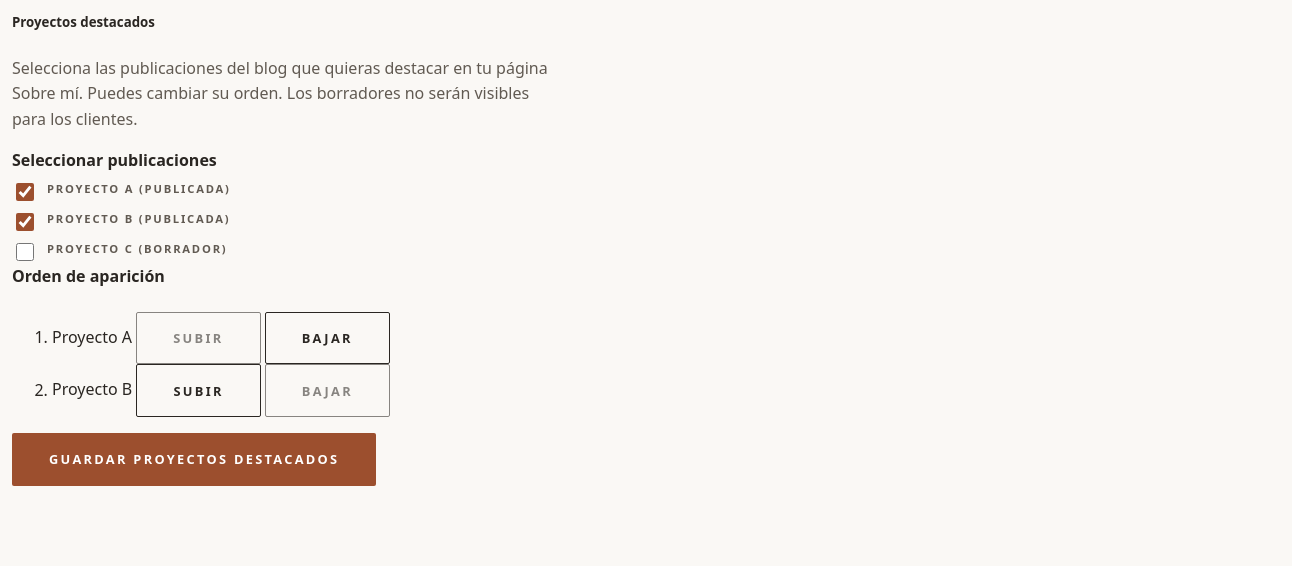
Test case: SelectorProyectosSobreMi › muestra un error cuando falla el guardado
Click the button "Guardar proyectos destacados": point(194, 460) [12, 433, 376, 486]
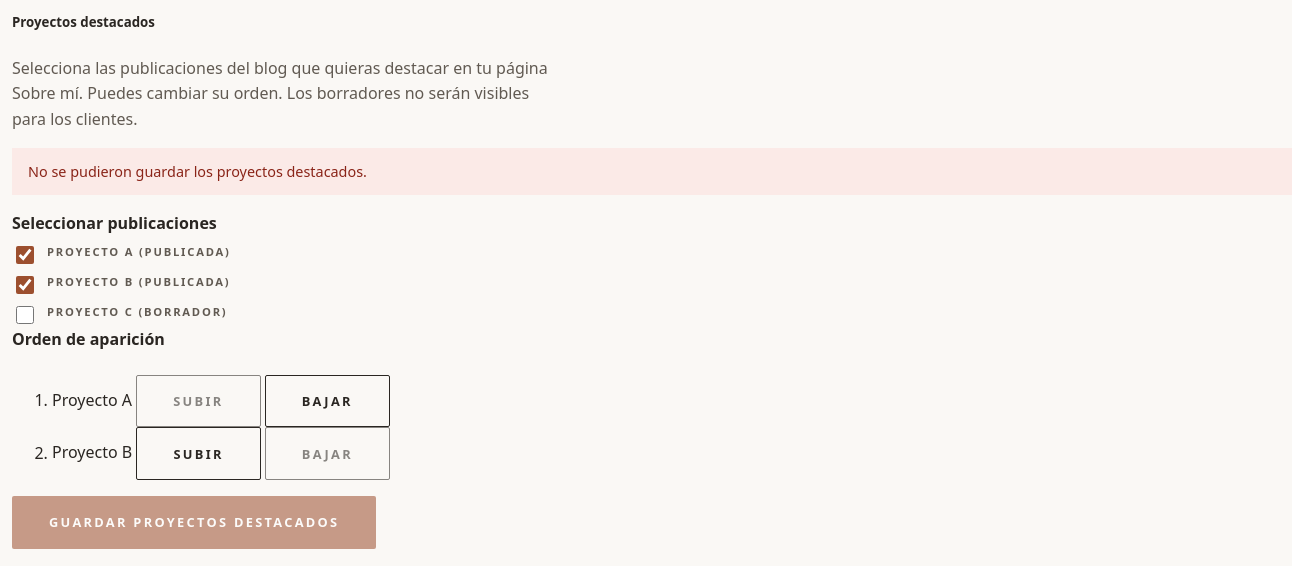
Expected: the message reads "No se pudieron guardar los proyectos destacados.", [28, 162, 367, 181]
